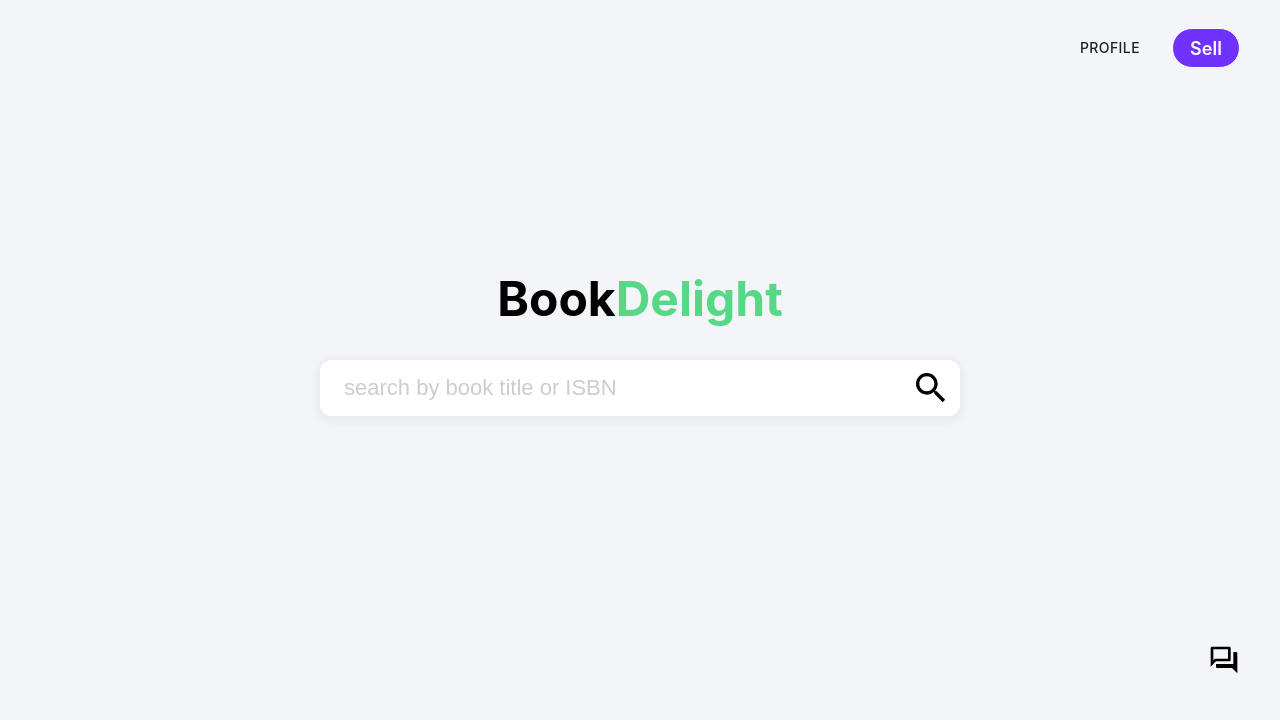
Test: search by title on home page by clicking search button
Type "science" into the field with test id "search-input" at (611, 388), box [320, 360, 902, 416]
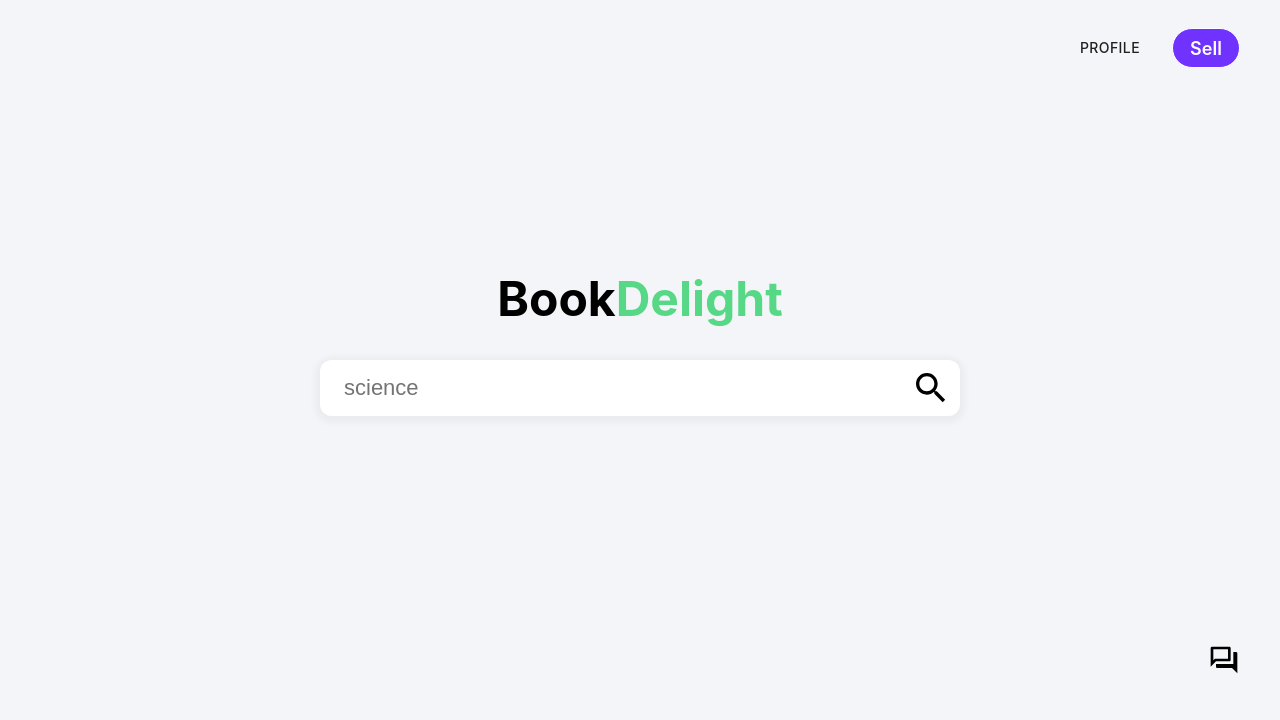
Click the icon with test id "search-button" at (931, 388), box [902, 360, 960, 416]
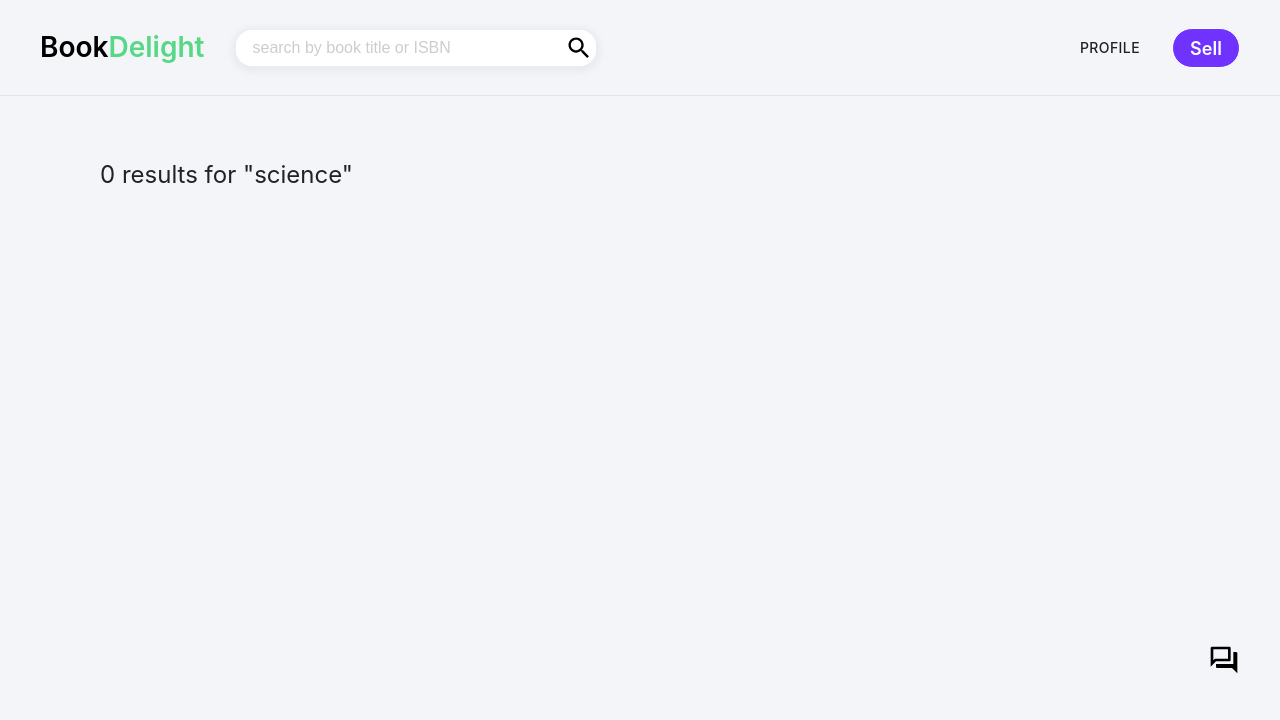
Check: the heading "0 results for \"science\"" is shown, box [100, 160, 353, 189]
